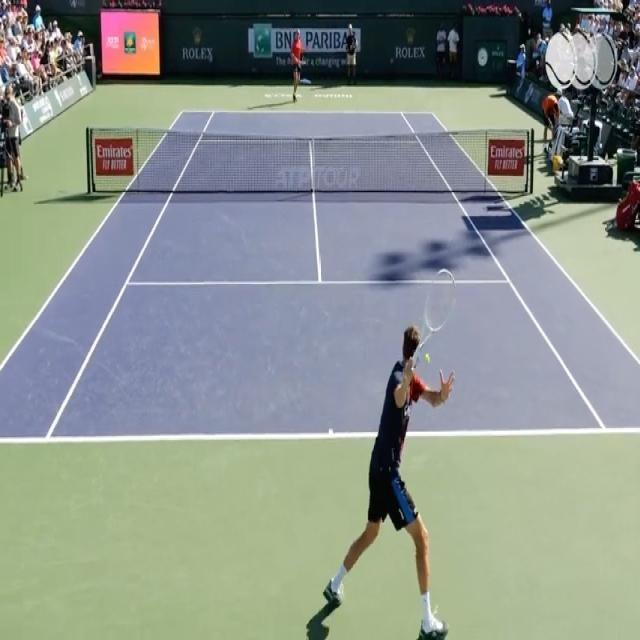forehand-ready: (330, 272, 452, 632)
